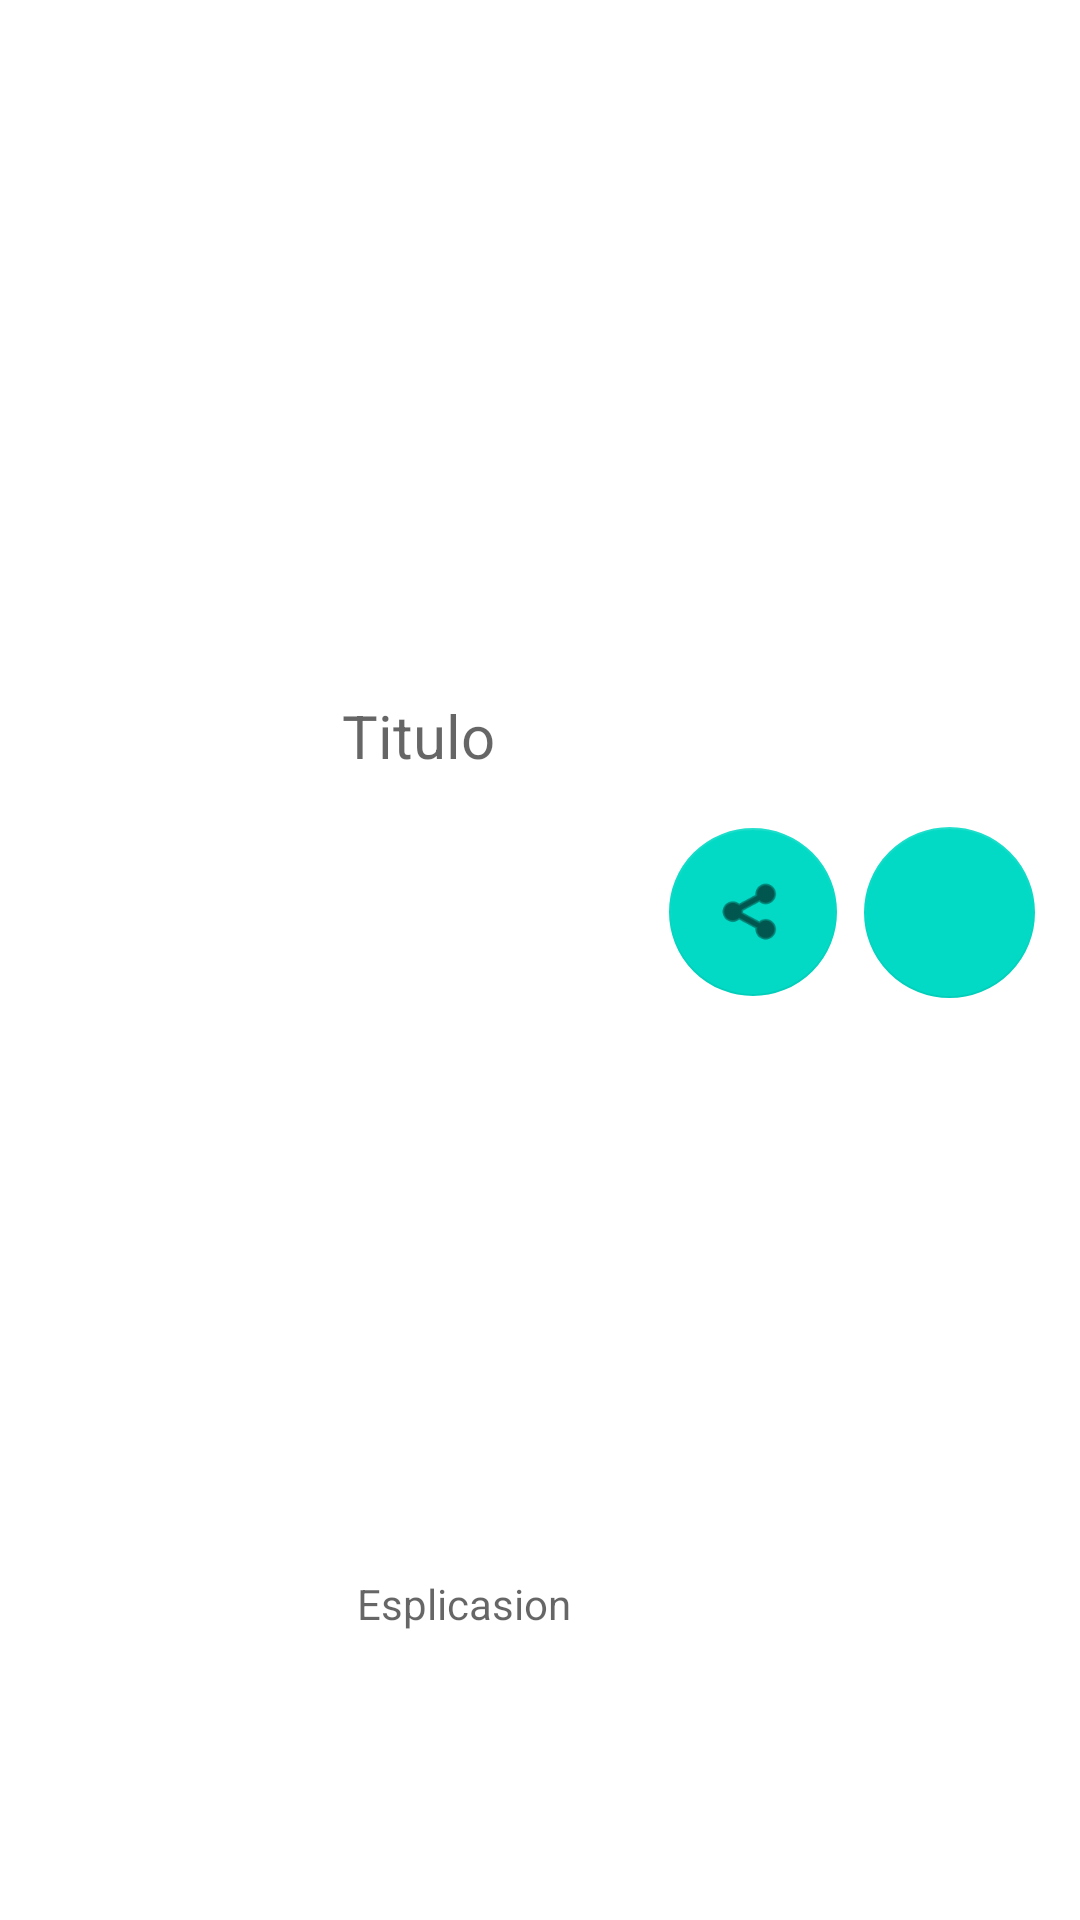

Icons on this 1080w x 1920h Android screen, each with the point to tap as [x,y]:
Share: [753,912]
